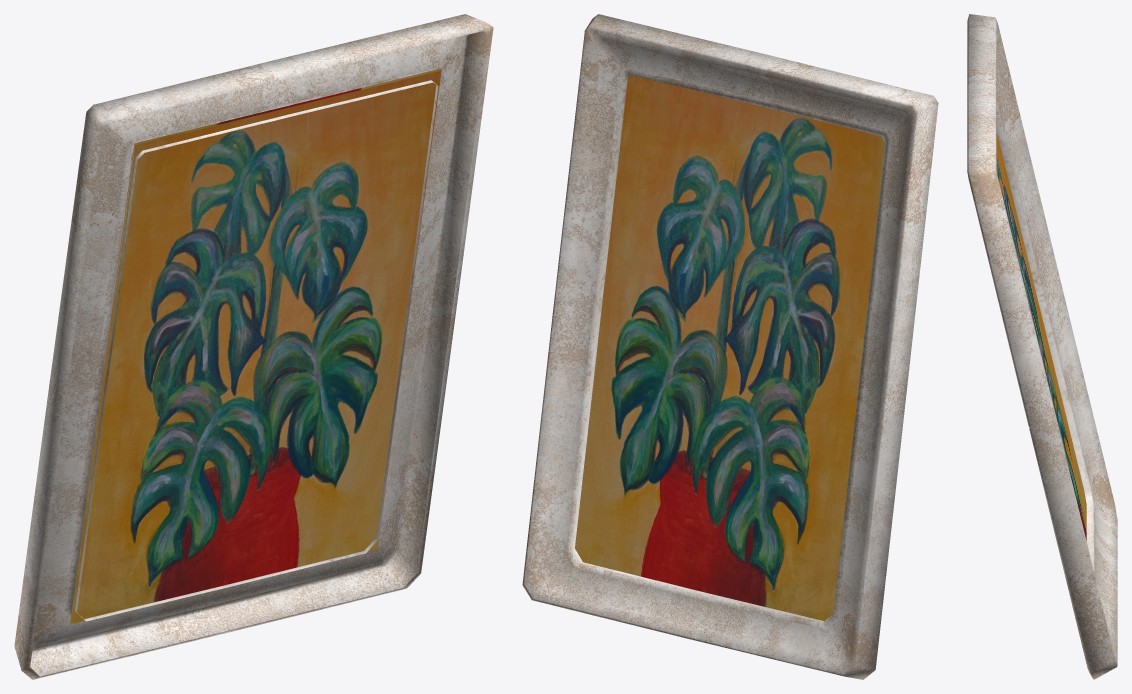
The model's file is Plant.fbx.
The picture shows the model from 3 angles, left to right: view 1: azimuth 30°, elevation 25°; view 2: azimuth 150°, elevation 25°; view 3: azimuth 270°, elevation 25°; orthographic projection. The views are drawn at different scales.
Parts seen in each view (by area): view 1: KitschPainting.003, PaintingFrame.003; view 2: KitschPainting.003, PaintingFrame.003; view 3: PaintingFrame.003, KitschPainting.003.
Boxes of the visible parts, x1=… form: KitschPainting.003: x1=70, y1=68, x2=441, y2=624; PaintingFrame.003: x1=14, y1=14, x2=493, y2=679; KitschPainting.003: x1=575, y1=75, x2=885, y2=620; PaintingFrame.003: x1=522, y1=14, x2=938, y2=679; PaintingFrame.003: x1=967, y1=14, x2=1117, y2=679; KitschPainting.003: x1=996, y1=131, x2=1086, y2=540.
Size of the model in its own units: 309 by 459 by 122.
